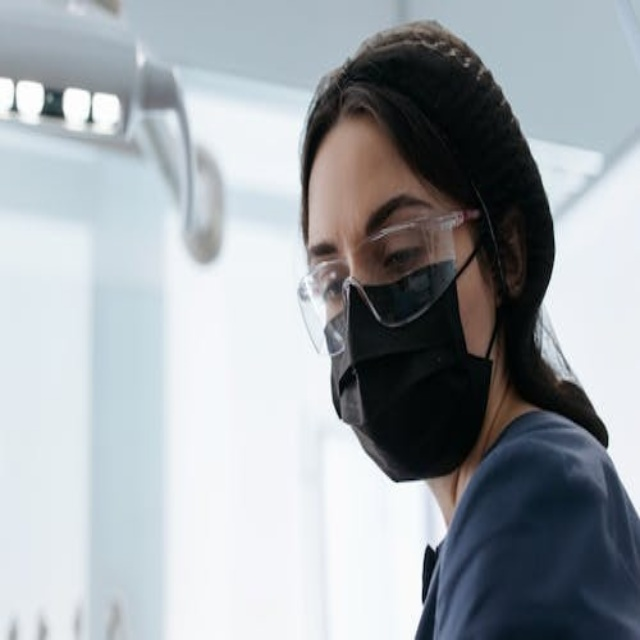Gafas: (298, 205, 487, 357)
Mascara: (320, 204, 499, 479)
